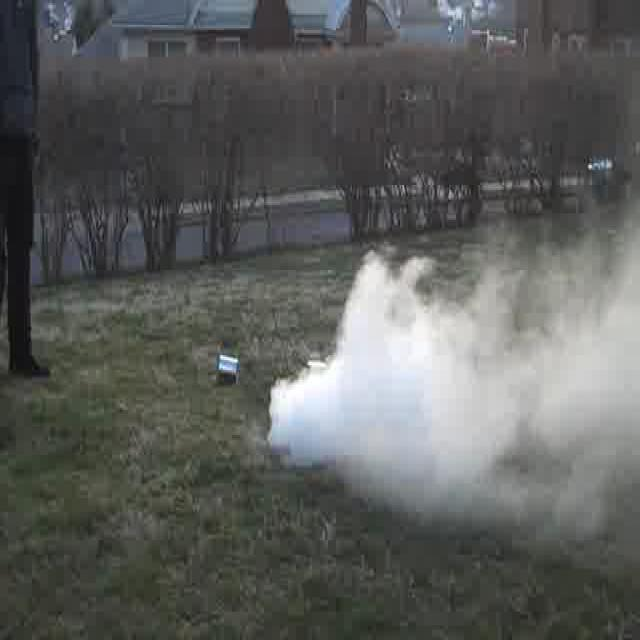Smoke: (279, 250, 617, 522)
